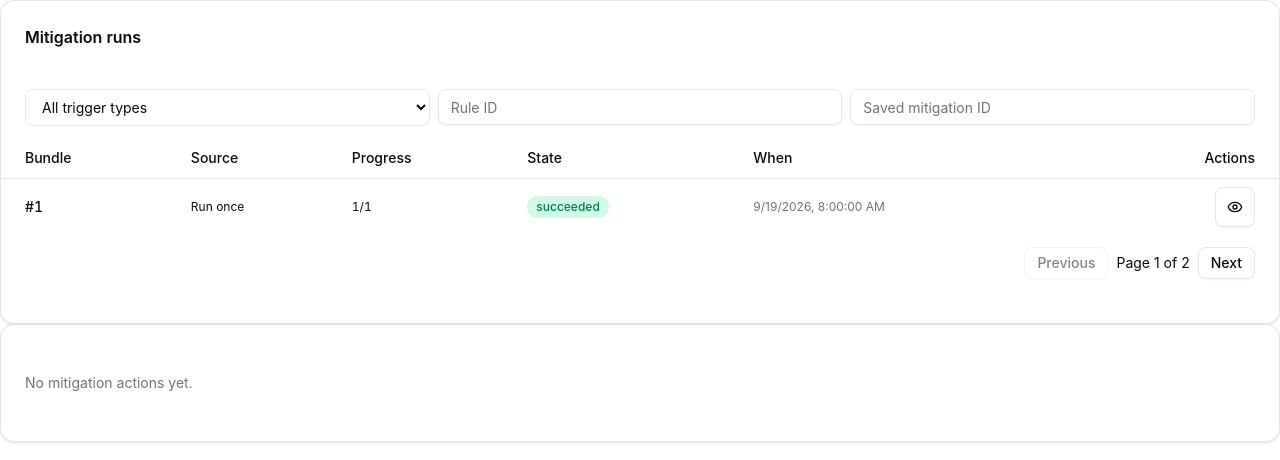
Test: pages through run history beyond the first fifty records
Expected: the text "#1" is shown, [1,178,183,234]
Click the button "Next" at (1226, 262), box [1198,246,1255,278]
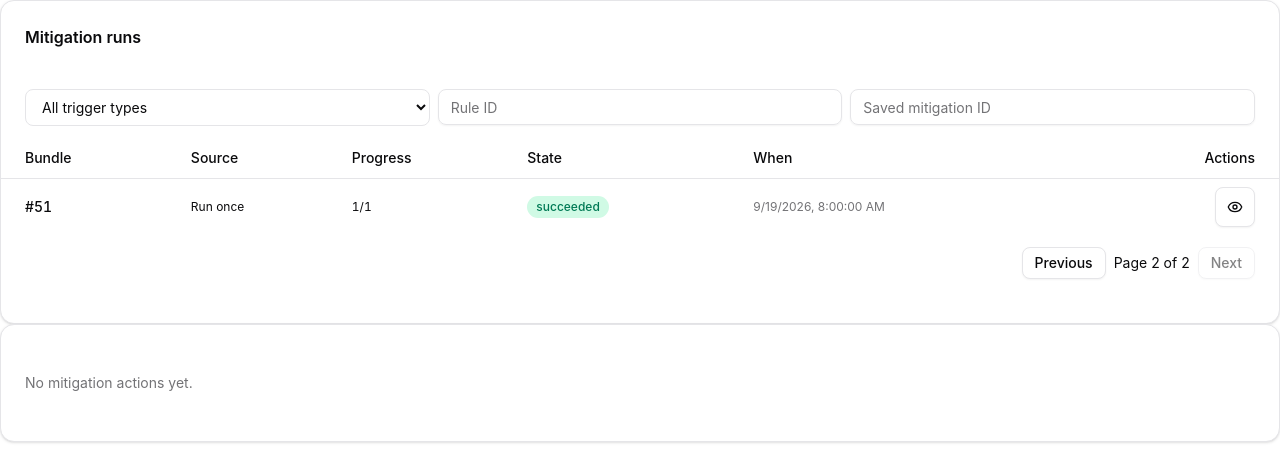
Expected: the text "#51" is shown, [1,178,183,234]
